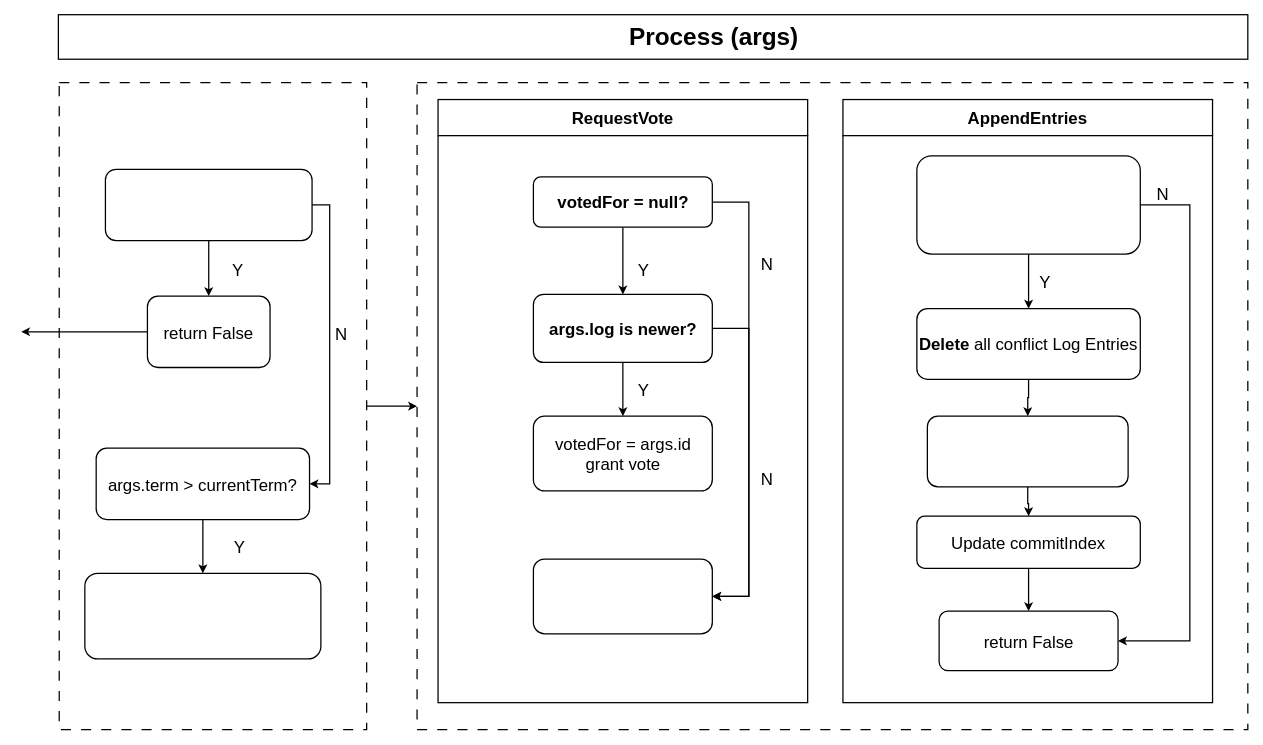
Image size: 1263x745. Some labels were removed from this diagram. The shapes that lost their labels are listed below. From the top down, each one's centre as x and y in pixels, then its label:
At pixel 208 204: "args.term < currentTerm?".
At pixel 1028 204: "contain log with ( prevLogIndex , prevLogTerm , prevK )".
At pixel 1027 451: "Append new log entries Overwrite entries with smaller k".
At pixel 202 615: "currentTerm = args.term To Follower votedFor = null".
At pixel 622 596: "refuse vote".
